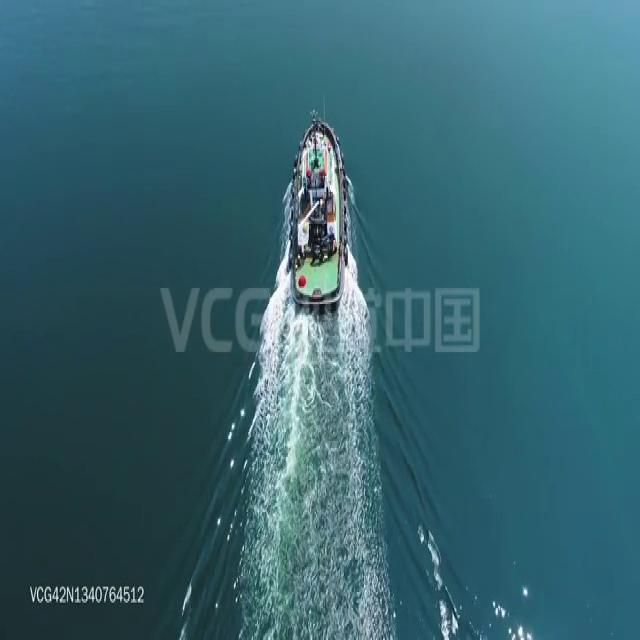houseboat: (288, 111, 350, 301)
